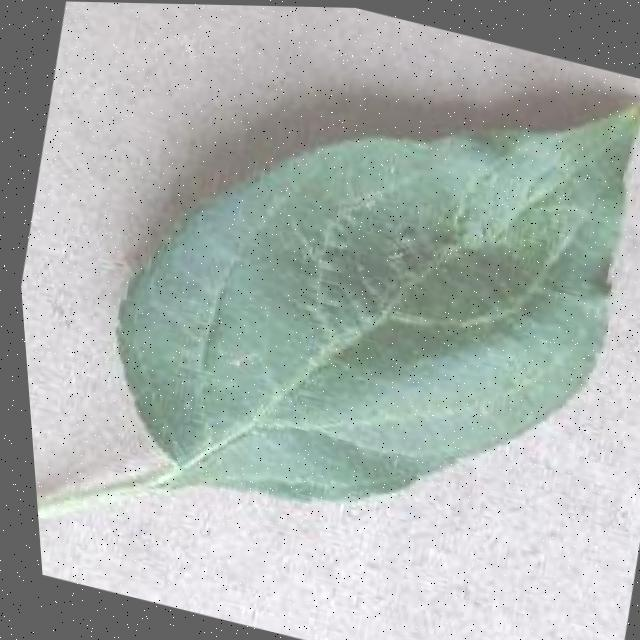healthy: (51, 1, 640, 603)
